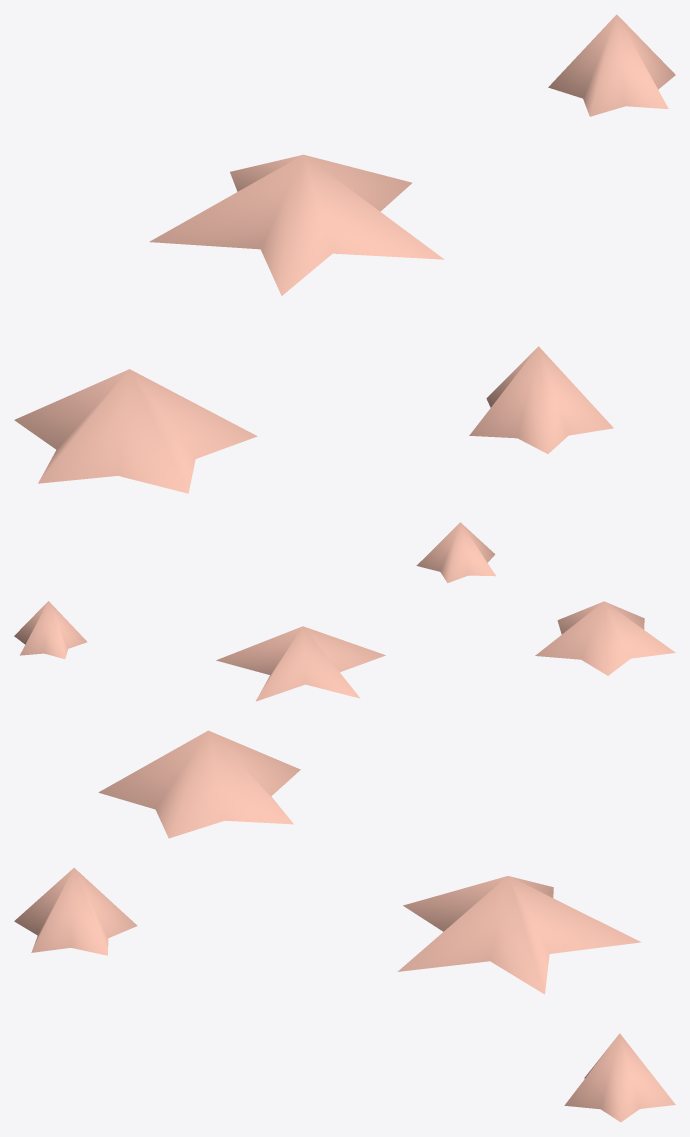
The model's file is ytlds_Object (4).fbx.
The picture shows the model from 3 angles, top to bottom: view 1: azimuth 30°, elevation 25°; view 2: azimuth 150°, elevation 25°; view 3: azimuth 270°, elevation 25°; orthographic projection. The views are drawn at different scales.
Visible parts, largest first — view 1: Object04; view 2: Object04; view 3: Object04.
Boxes of the visible parts, x1,y1,x2,y2 form: Object04: (14, 14, 675, 493); Object04: (14, 522, 675, 701); Object04: (14, 730, 675, 1122).
Size of the model in its own units: 155 by 12.51 by 116.
